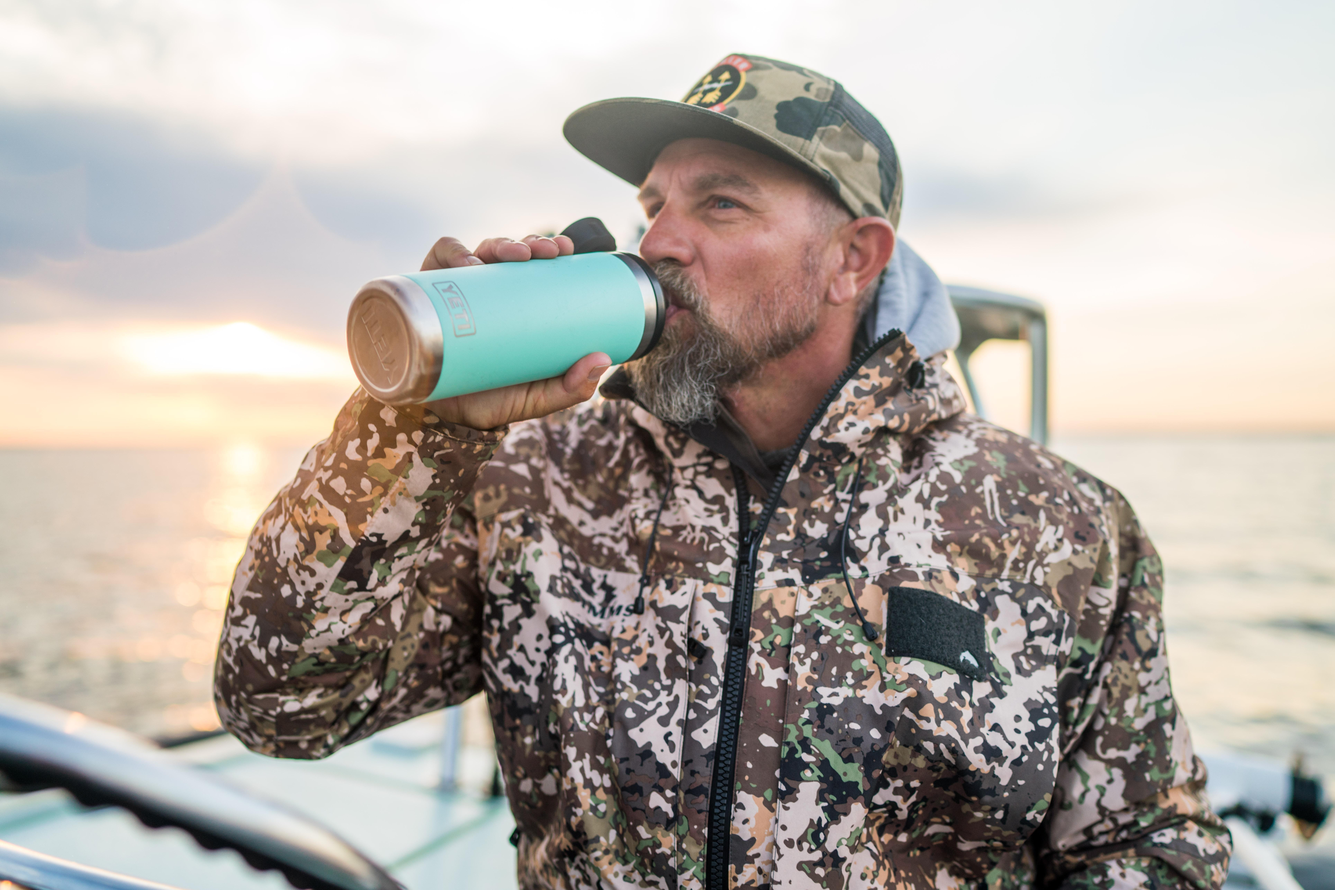gym bottle: (344, 246, 667, 406)
